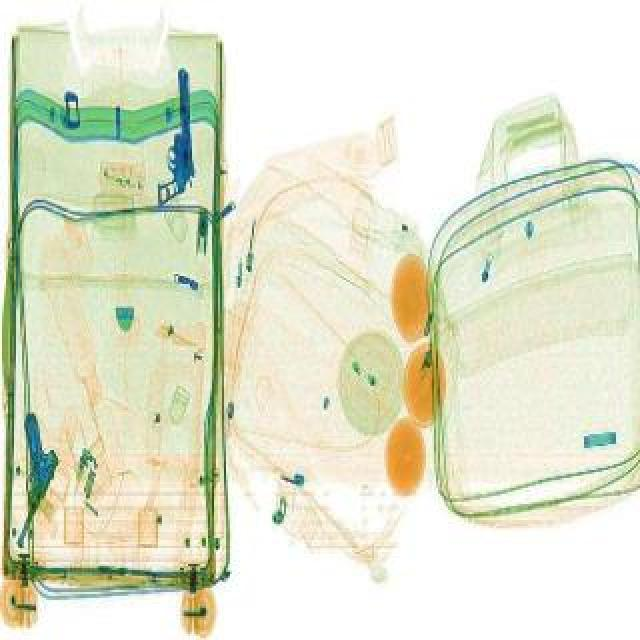gun: (0, 426, 64, 544), (154, 66, 194, 202)
